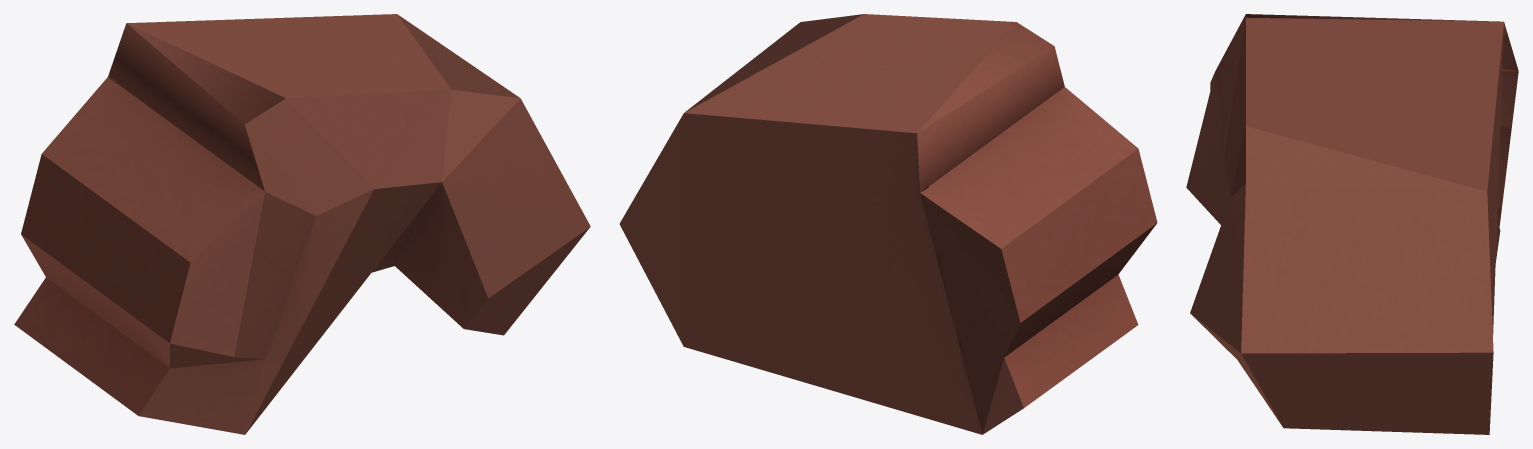
Rendered from Hair 3.FBX.
3 views of the same model, side by side, from view 1: azimuth 30°, elevation 25°; view 2: azimuth 150°, elevation 25°; view 3: azimuth 270°, elevation 25° (orthographic). The views are drawn at different scales.
Parts seen in each view (by area): view 1: Hair 3; view 2: Hair 3; view 3: Hair 3.
Part boxes in pixels (x1,y1,x2,y2): Hair 3: (14, 14, 590, 434); Hair 3: (619, 14, 1157, 434); Hair 3: (1186, 14, 1518, 434).
Bounding box in the file's own units: 292 × 196 × 210.
Materials: 1 (1 with a texture image).
